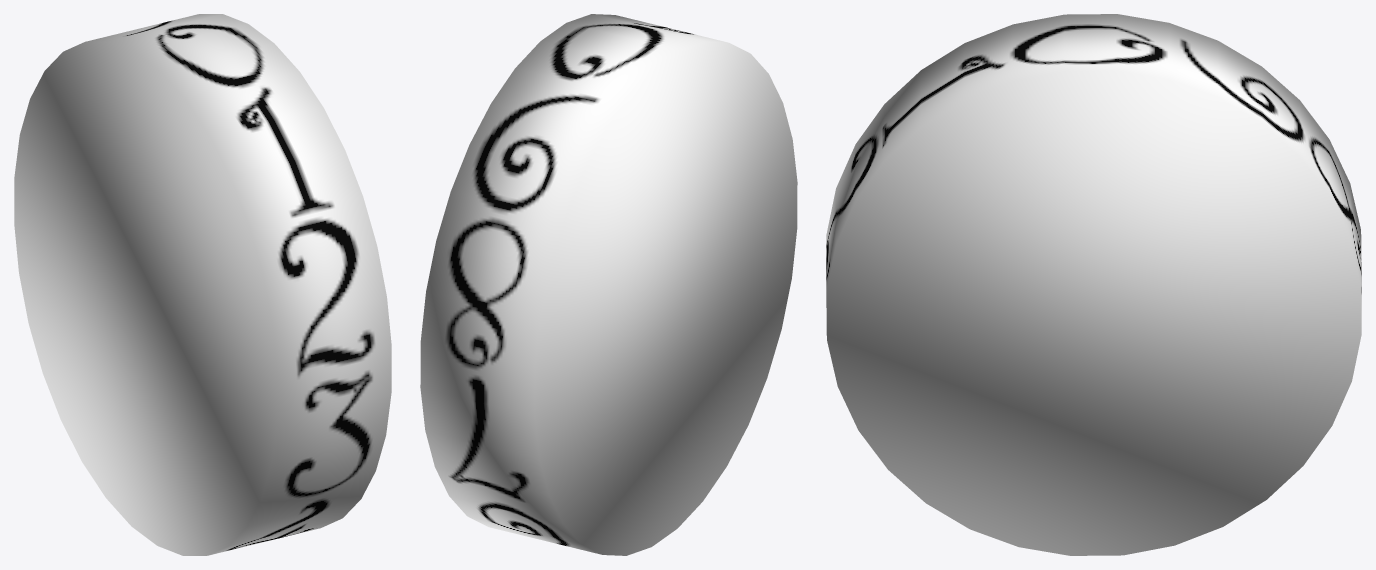
Rendered from numberDial.fbx.
The picture shows the model from 3 angles, left to right: view 1: azimuth 30°, elevation 25°; view 2: azimuth 150°, elevation 25°; view 3: azimuth 270°, elevation 25°; orthographic projection.
Visible parts, largest first — view 1: Cylinder; view 2: Cylinder; view 3: Cylinder.
Boxes of the visible parts, <box> form: Cylinder: <box>14,14,391,555</box>; Cylinder: <box>420,14,797,555</box>; Cylinder: <box>826,14,1361,555</box>.
Size of the model in its own units: 0.25 by 0.9962 by 0.9962.
